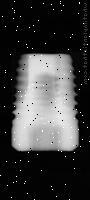Neoss: (11, 52, 80, 151)
